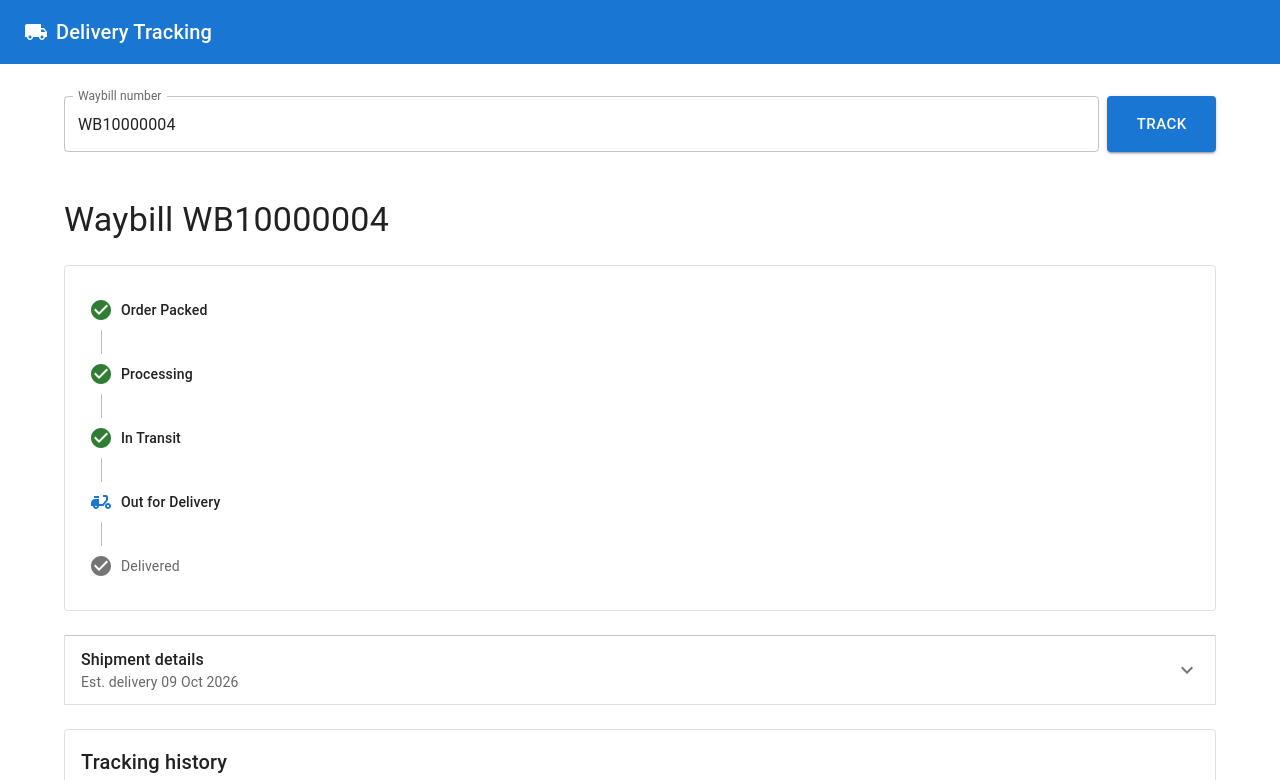
Test: TrackingPage › puts the shipment and receiver cards in a collapsed accordion on mobile
Expected: the text "T. Mokoena" is not shown
Click the button "Shipment details Est. delivery 09 Oct 2026" at (142, 659), box [81, 650, 1199, 690]
Wait 400 ms
(page scrolled)
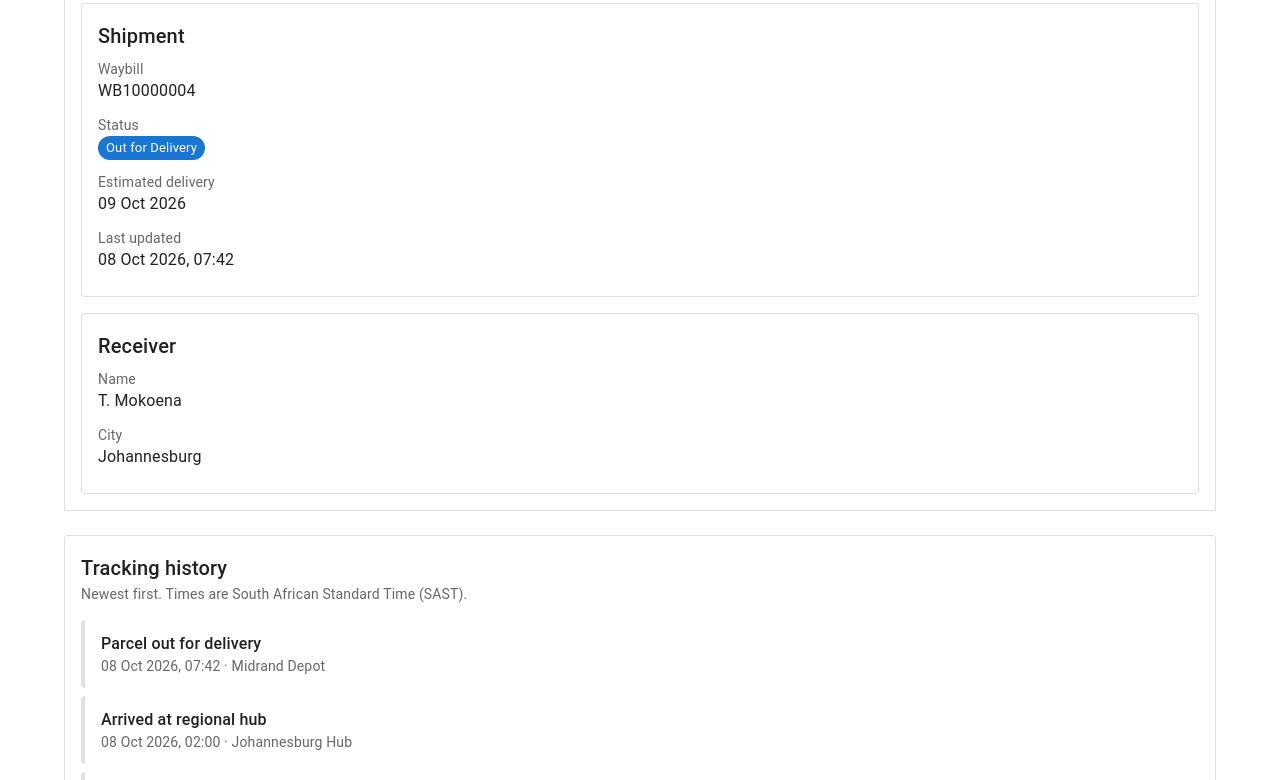
Result: the text "T. Mokoena" is shown at [98, 391, 182, 410]
